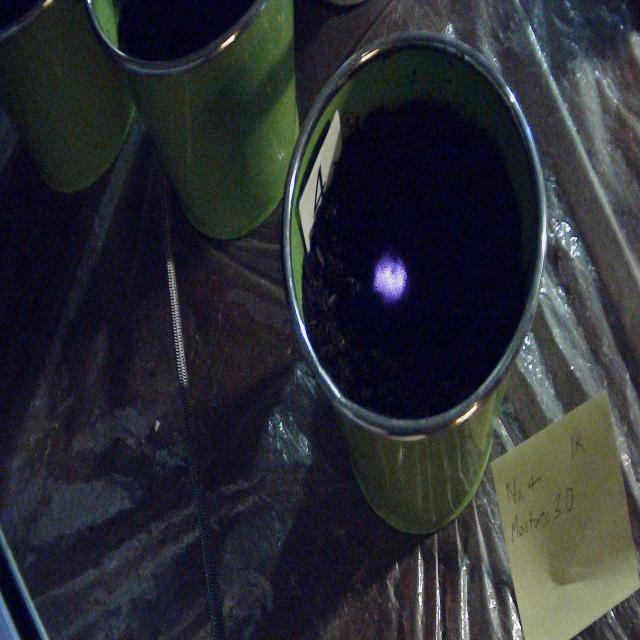soil-moisture-3.0: (373, 251, 407, 305)
